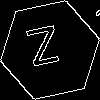Z: (25, 25, 64, 76)
